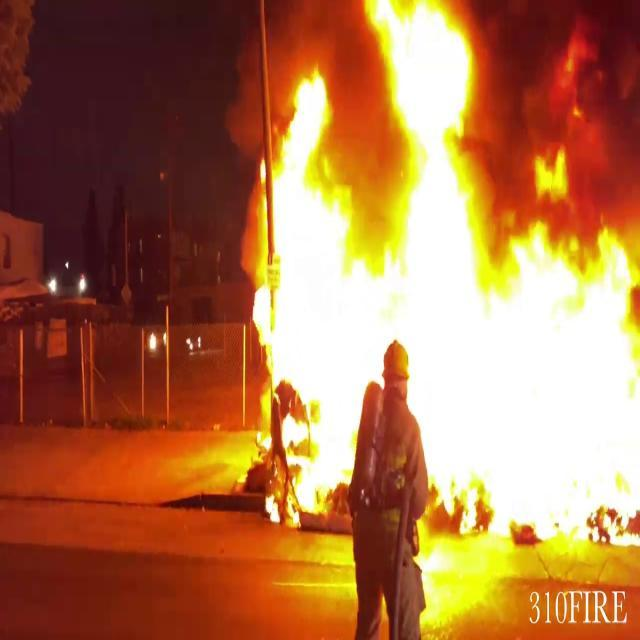Fire: (242, 2, 640, 552)
